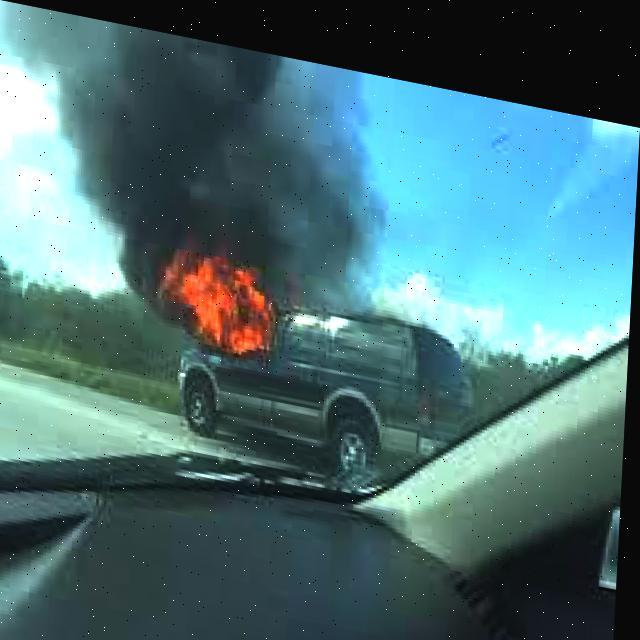Fire: (136, 218, 288, 357)
